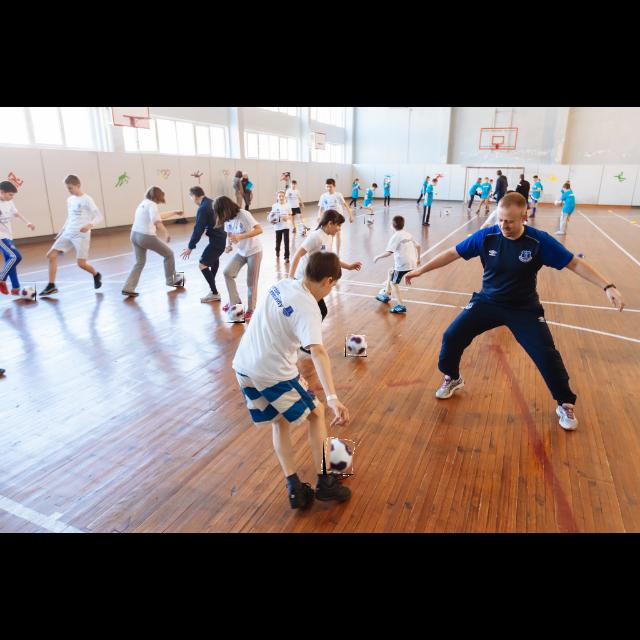Football: (323, 439, 353, 475), (345, 335, 367, 357), (18, 281, 36, 301), (225, 305, 245, 323), (174, 272, 184, 286), (268, 212, 280, 222), (440, 207, 452, 217), (364, 214, 374, 224), (298, 224, 306, 234)
